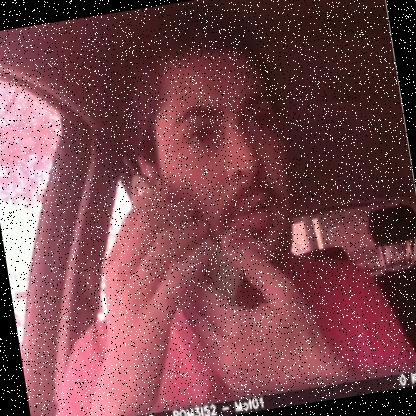phone: (116, 164, 242, 338)
